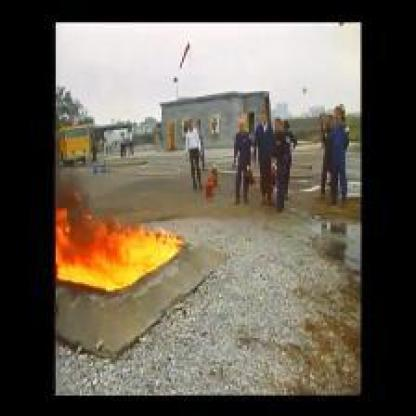smoke: (53, 196, 188, 293)
